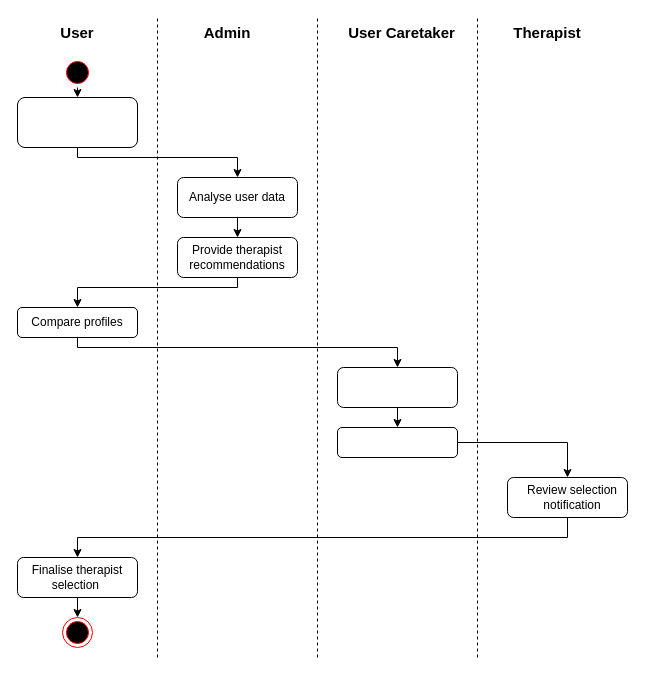
The diagram is 645 pixels wide and 676 high, and some of its shapes have lost their labels. The box of each missing label's shape, as (x1, y1, x2, y2) in pixels:
Assist in selection: (336, 426, 458, 458)
Request therapist suggestions: (16, 96, 138, 148)
Review recommendations: (336, 366, 458, 408)
